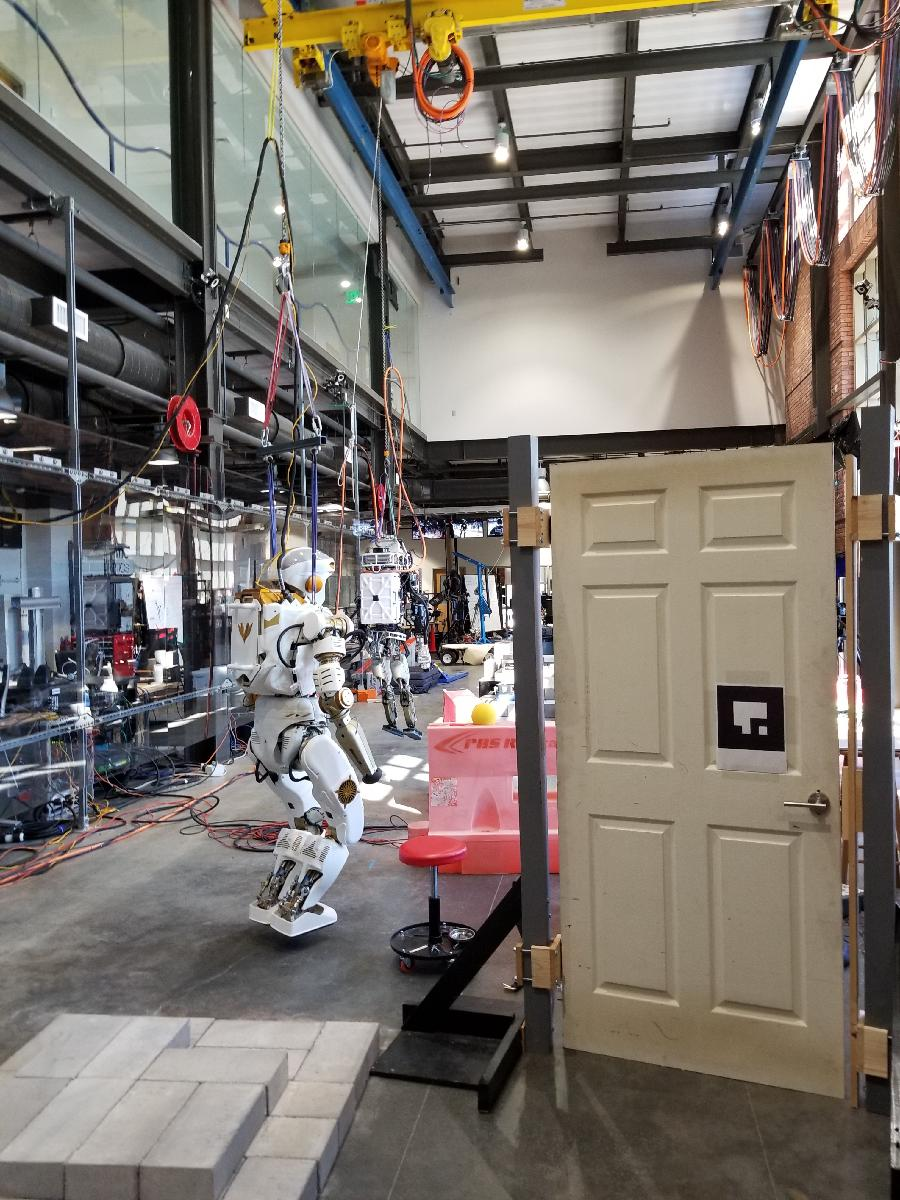door: (543, 439, 853, 1112)
doorHandle: (782, 788, 834, 819)
